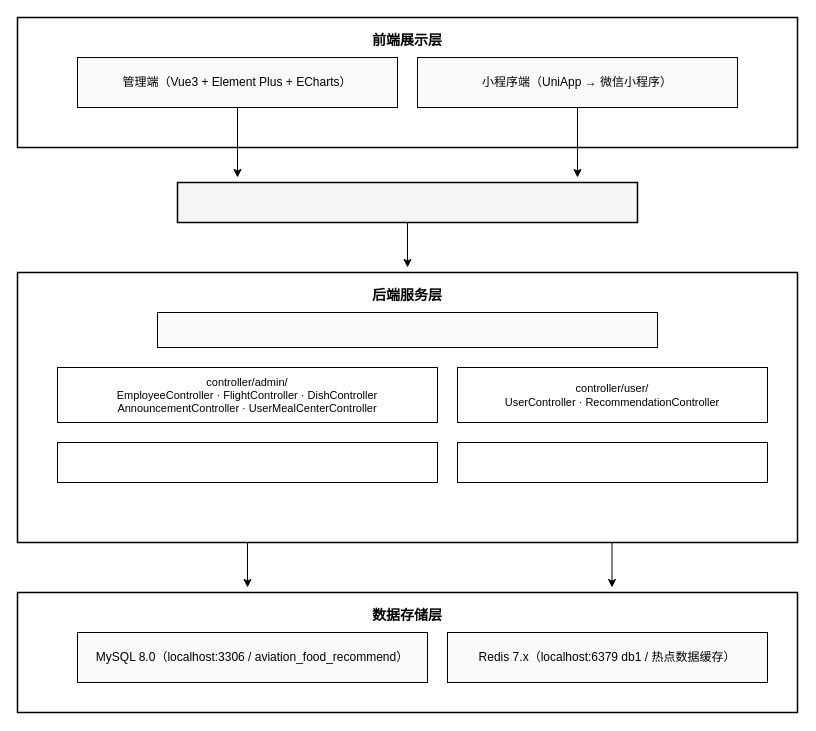
The diagram is 816 pixels wide and 731 high, and some of its shapes have lost their labels. The centre of each missing label's shape, as x and y in pixels:
"mapper/ MyBatis数据访问层（11个XML映射文件）" goes at (247,462).
"Nginx（反向代理 + 静态资源部署）" goes at (407,202).
"Spring Boot 3.2.5（内嵌Tomcat :8081）" goes at (407,330).
"task/ MealSelectionTask（自动分配 · 截止提醒）" goes at (612,462).
